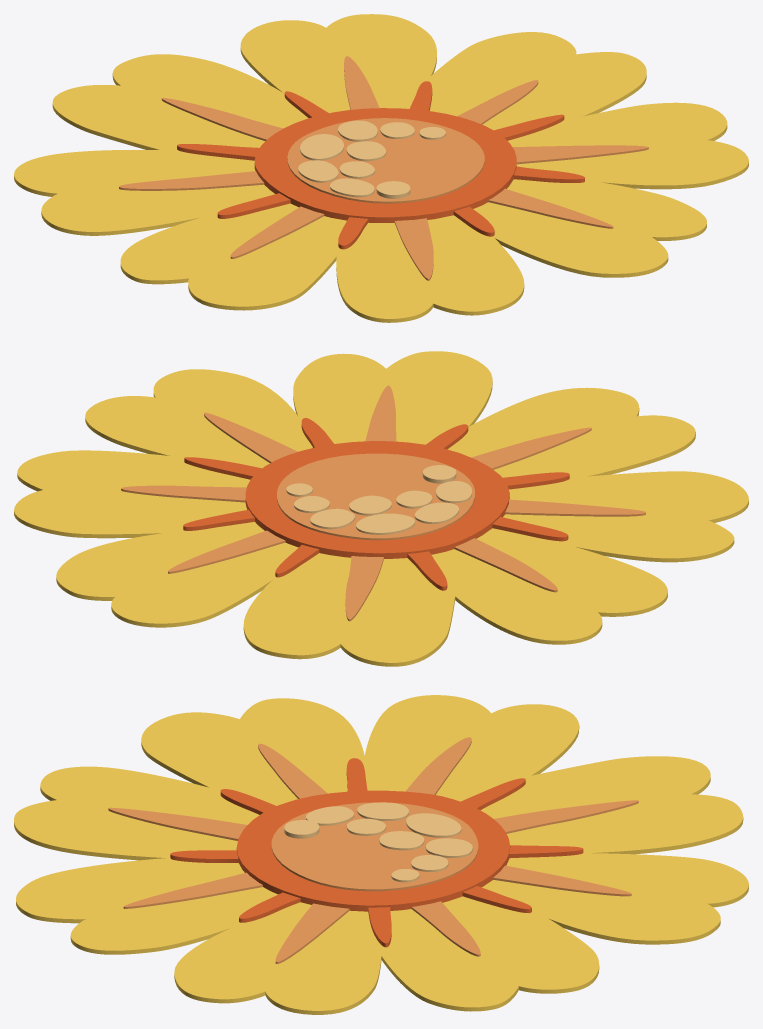
The model's file is emoji_u1f33c.glb.
3 views of the same model, one above another, from view 1: azimuth 30°, elevation 25°; view 2: azimuth 150°, elevation 25°; view 3: azimuth 270°, elevation 25° (orthographic). The views are drawn at different scales.
Parts seen in each view (by area): view 1: emoji_u1f33c; view 2: emoji_u1f33c; view 3: emoji_u1f33c.
Part boxes in pixels (x1,y1,x2,y2): emoji_u1f33c: (14,14,748,322); emoji_u1f33c: (14,351,748,666); emoji_u1f33c: (14,695,748,1014).
Size of the model in its own units: 0.0335 by 0.0014 by 0.033.
